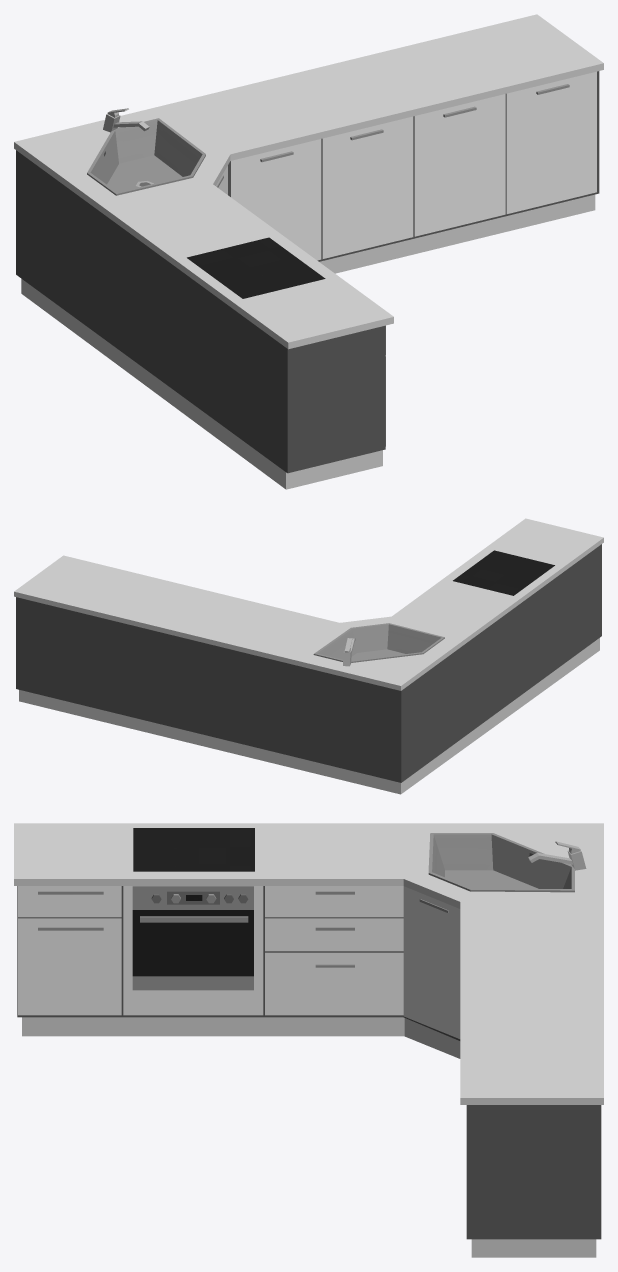
File: kitchen_item_005.glb
3 views of the same model, one above another, from view 1: azimuth 30°, elevation 25°; view 2: azimuth 150°, elevation 25°; view 3: azimuth 270°, elevation 25° (orthographic). The views are drawn at different scales.
Visible parts, largest first — view 1: kitchen_item_005; view 2: kitchen_item_005; view 3: kitchen_item_005.
Boxes of the visible parts, x1=… form: kitchen_item_005: x1=14, y1=14, x2=603, y2=489; kitchen_item_005: x1=14, y1=518, x2=603, y2=794; kitchen_item_005: x1=14, y1=823, x2=603, y2=1257.
Bounding box in the file's own units: 3.41 × 1.1 × 3.09.
1 material, 1 textured.
